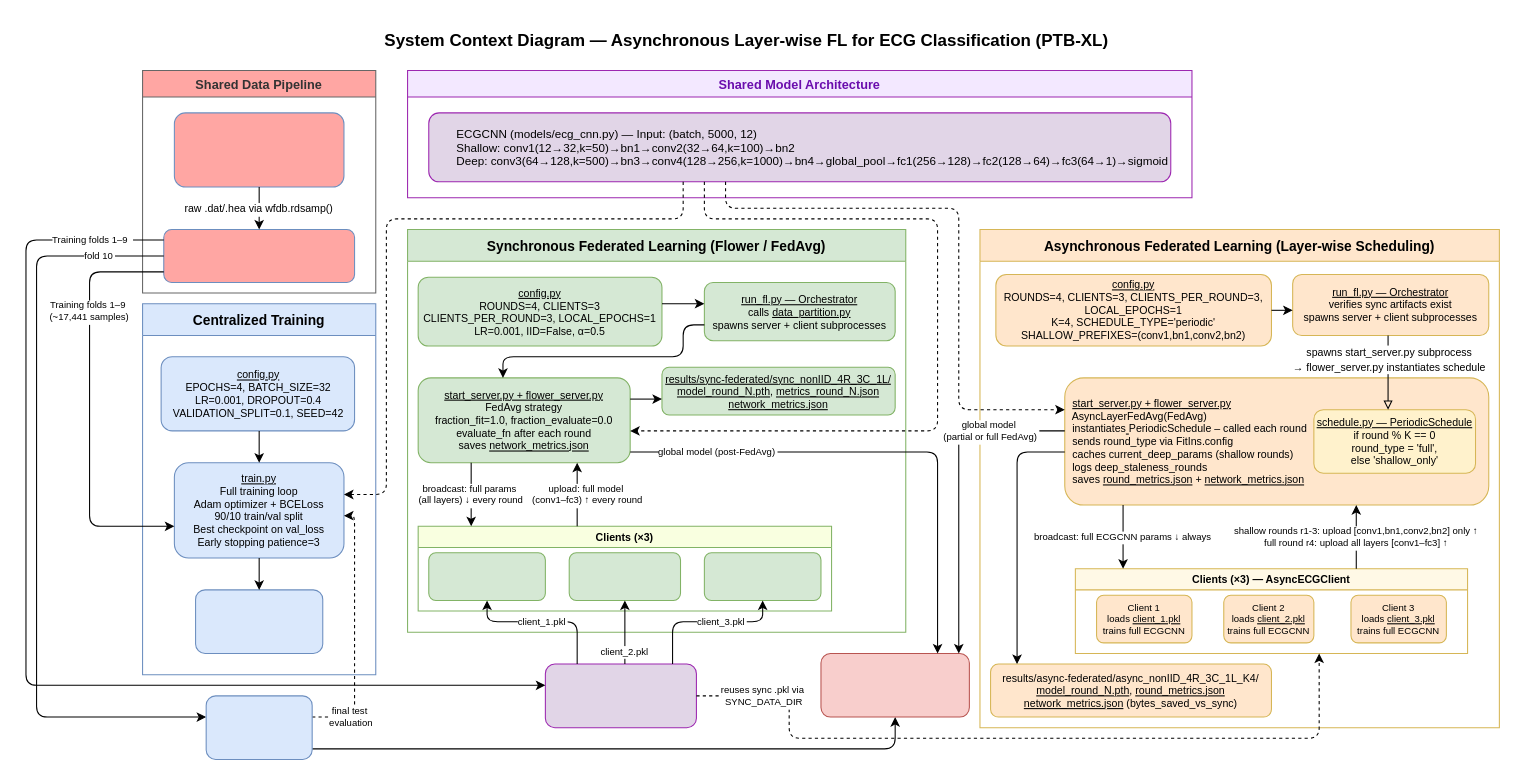
This 1518x778 diagram has some shape labels left out. Here are the shapes that lost their labels. From the top down, the centre of each, then its label:
At (x=258, y=149): "PTB-XL Dataset (21,799 ECGs, 12-lead, 500 Hz binary NORM label)".
At (x=259, y=255): "LoadData.py PTBXLDataLoader.prepare_data() superclass='NORM', test_fold=10".
At (x=486, y=576): "Client 1 flower_client.py ECGClient(NumPyClient)".
At (x=624, y=576): "Client 2 flower_client.py ECGClient(NumPyClient)".
At (x=762, y=576): "Client 3 flower_client.py ECGClient(NumPyClient)".
At (x=259, y=621): "results/centralized/C1/ model checkpoint test_loss, test_acc".
At (x=620, y=695): "data_partition.py Dirichlet non-IID split (α=0.5) → saves 3 client .pkl files".
At (x=894, y=684): "Server-side Evaluator evaluate_global_model() BCELoss + Accuracy".
At (x=258, y=727): "Held-out Test Set fold 10, ~2,194 samples".
